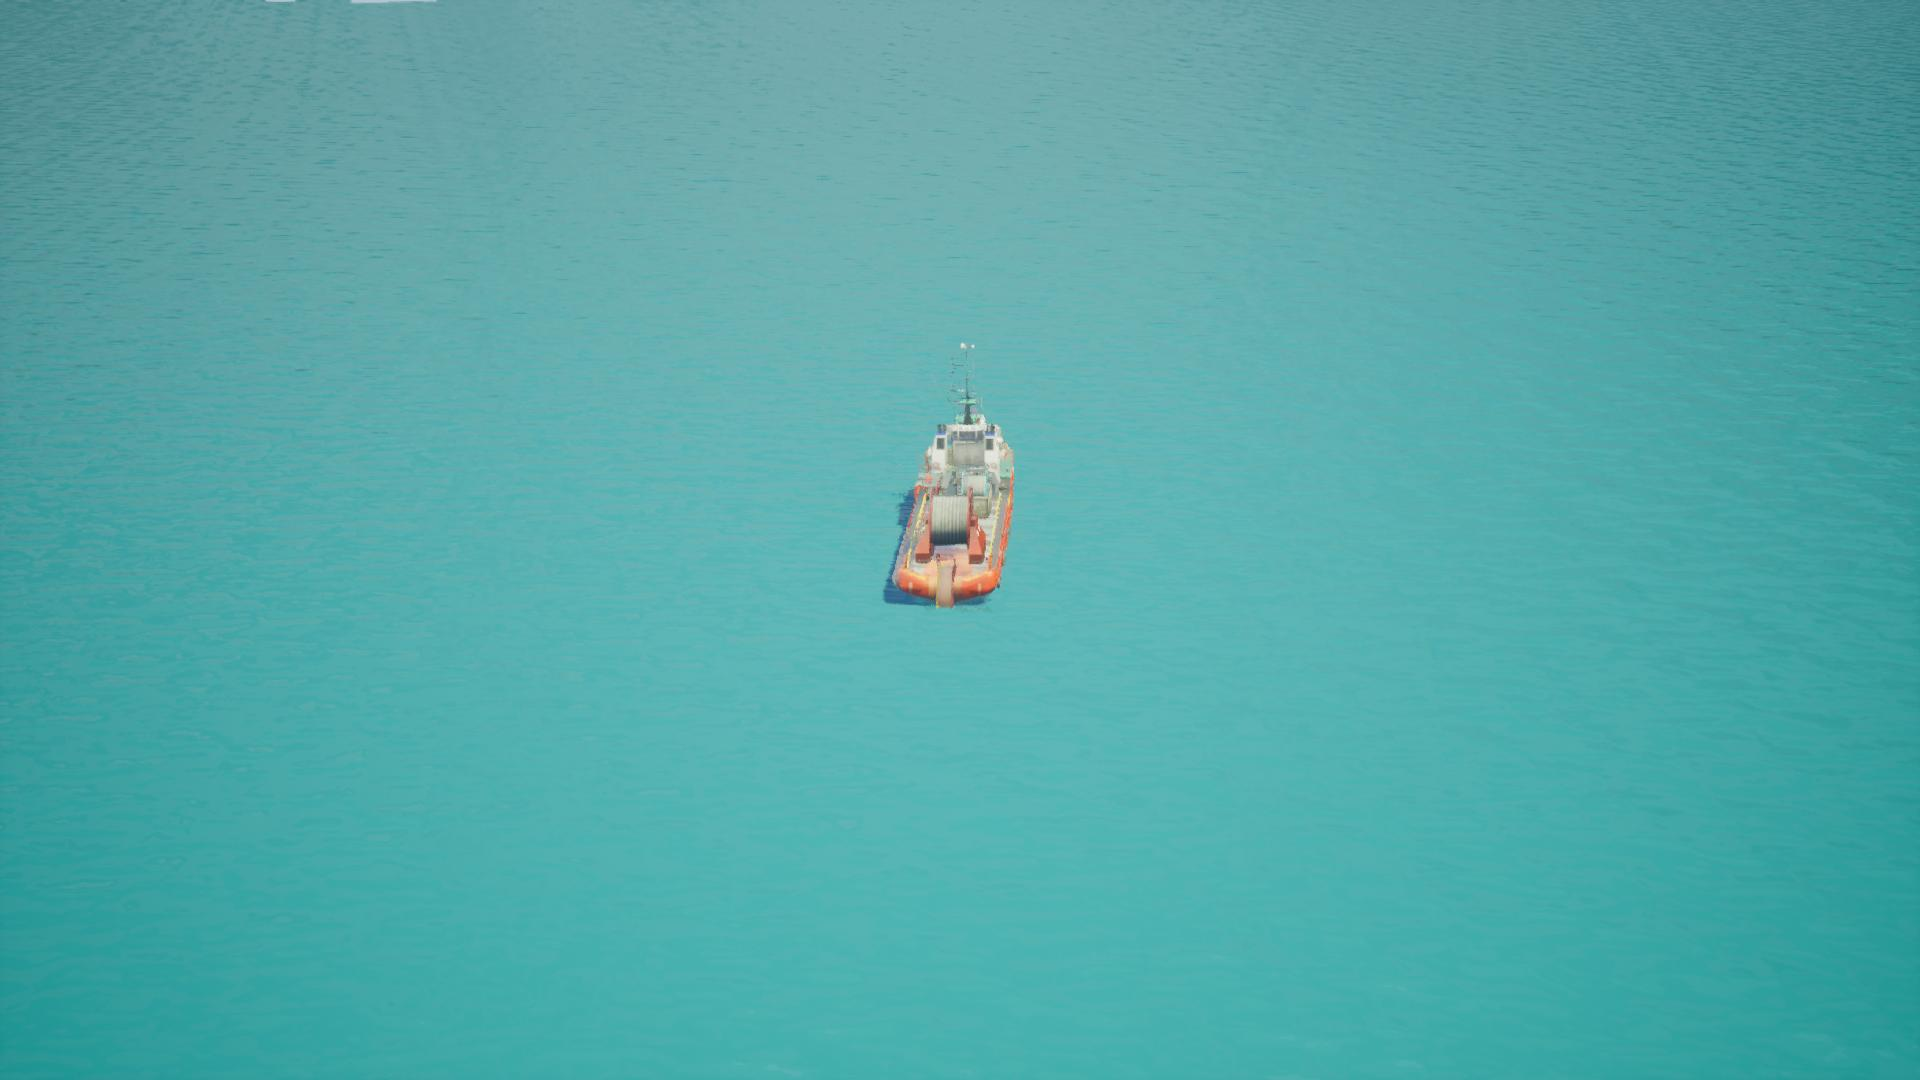Tug Boat: (886, 347, 1017, 608)
